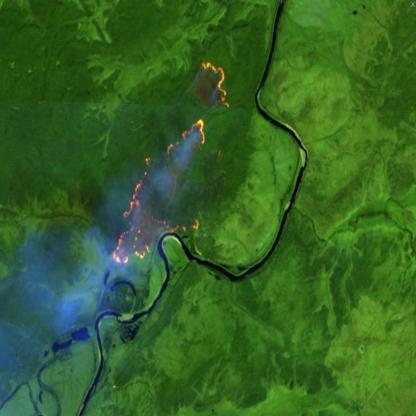fire: (110, 56, 238, 270)
